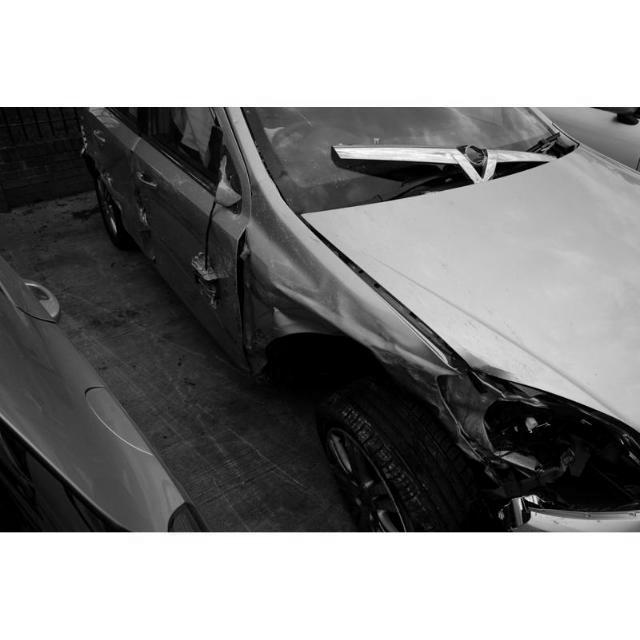fender-dent: (252, 221, 471, 417)
